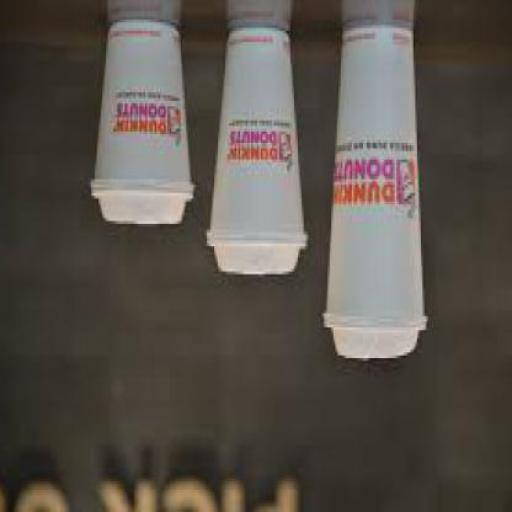paper: (326, 26, 428, 324), (210, 28, 309, 240), (96, 19, 198, 199)
